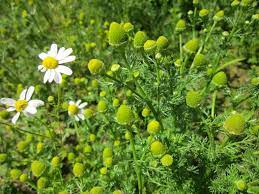pineple: (178, 122, 249, 183)
